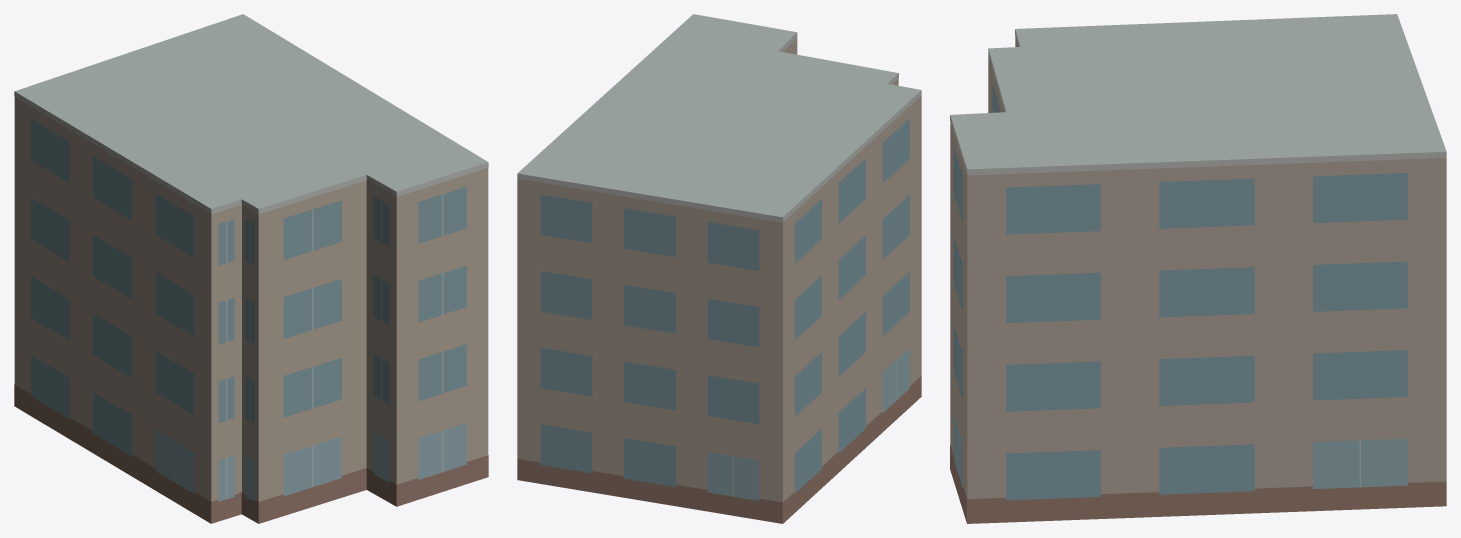
Rendered from survey-upis-32862239.glb.
The picture shows the model from 3 angles, left to right: view 1: azimuth 30°, elevation 25°; view 2: azimuth 150°, elevation 25°; view 3: azimuth 270°, elevation 25°; orthographic projection. The views are drawn at different scales.
Parts seen in each view (by area): view 1: survey-upis-32862239.tmp; view 2: survey-upis-32862239.tmp; view 3: survey-upis-32862239.tmp.
Boxes of the visible parts, <box> form: survey-upis-32862239.tmp: <box>14,14,488,523</box>; survey-upis-32862239.tmp: <box>517,14,921,523</box>; survey-upis-32862239.tmp: <box>950,14,1446,523</box>.
Size of the model in its own units: 13.46 by 14.3 by 18.16.
